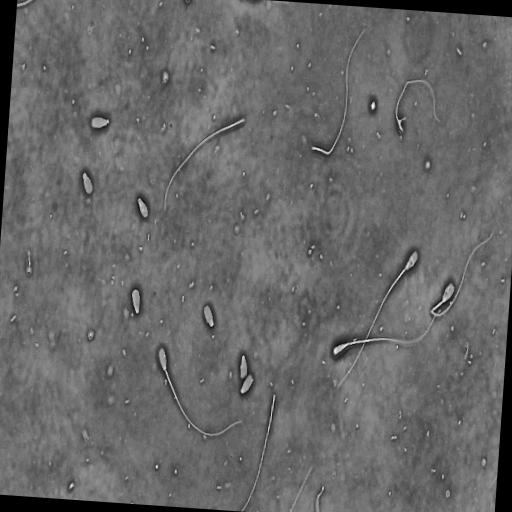dirt-particles: (369, 98, 377, 113)
folded-tail: (431, 233, 493, 317)
loose-head: (89, 112, 112, 132), (239, 370, 255, 398), (81, 169, 95, 198), (130, 286, 142, 318), (202, 303, 216, 330), (136, 195, 150, 221), (239, 352, 249, 382)
loose-tail: (163, 116, 246, 215), (310, 25, 367, 157), (240, 392, 278, 511), (395, 79, 442, 134)
normal: (335, 245, 421, 392), (154, 342, 245, 440), (430, 225, 497, 318), (331, 308, 443, 359)
